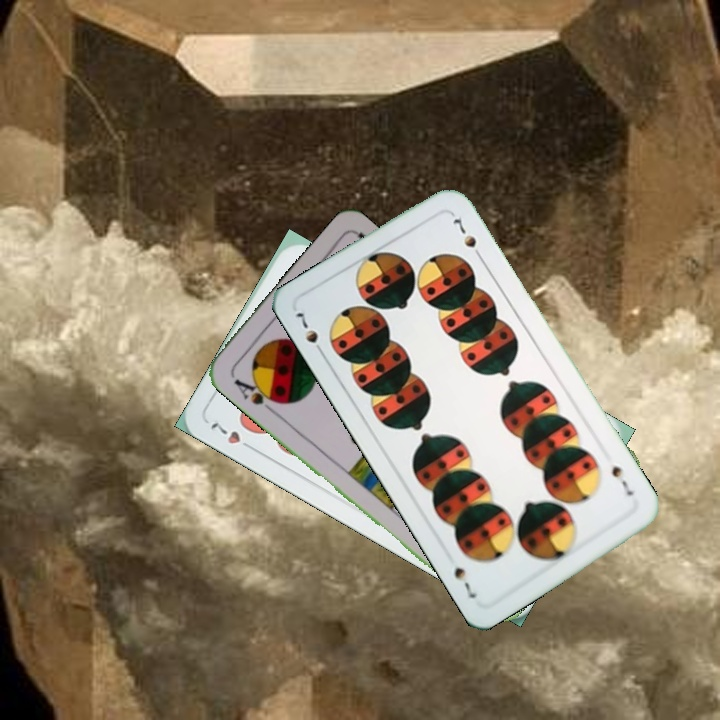H7: (206, 415, 258, 454)
S7: (291, 308, 328, 360), (607, 461, 637, 499)
SA: (230, 373, 283, 416)
